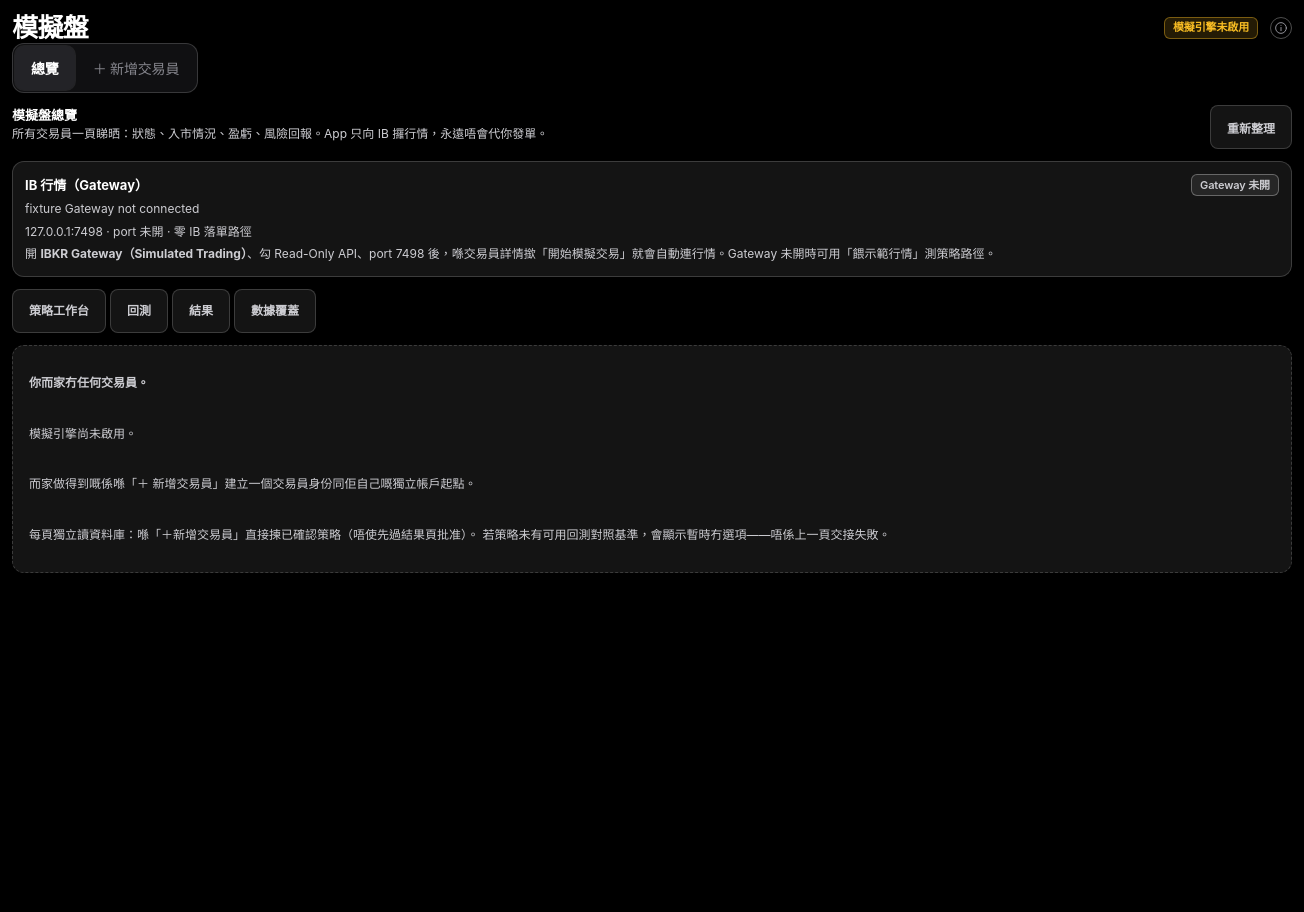
Test: P6 Stage A — contract candidates (approach C) › fails closed on an empty contract list and keeps create disabled
Click the tab "＋ 新增交易員" at (136, 68), box x1=77 y1=46 x2=195 y2=90
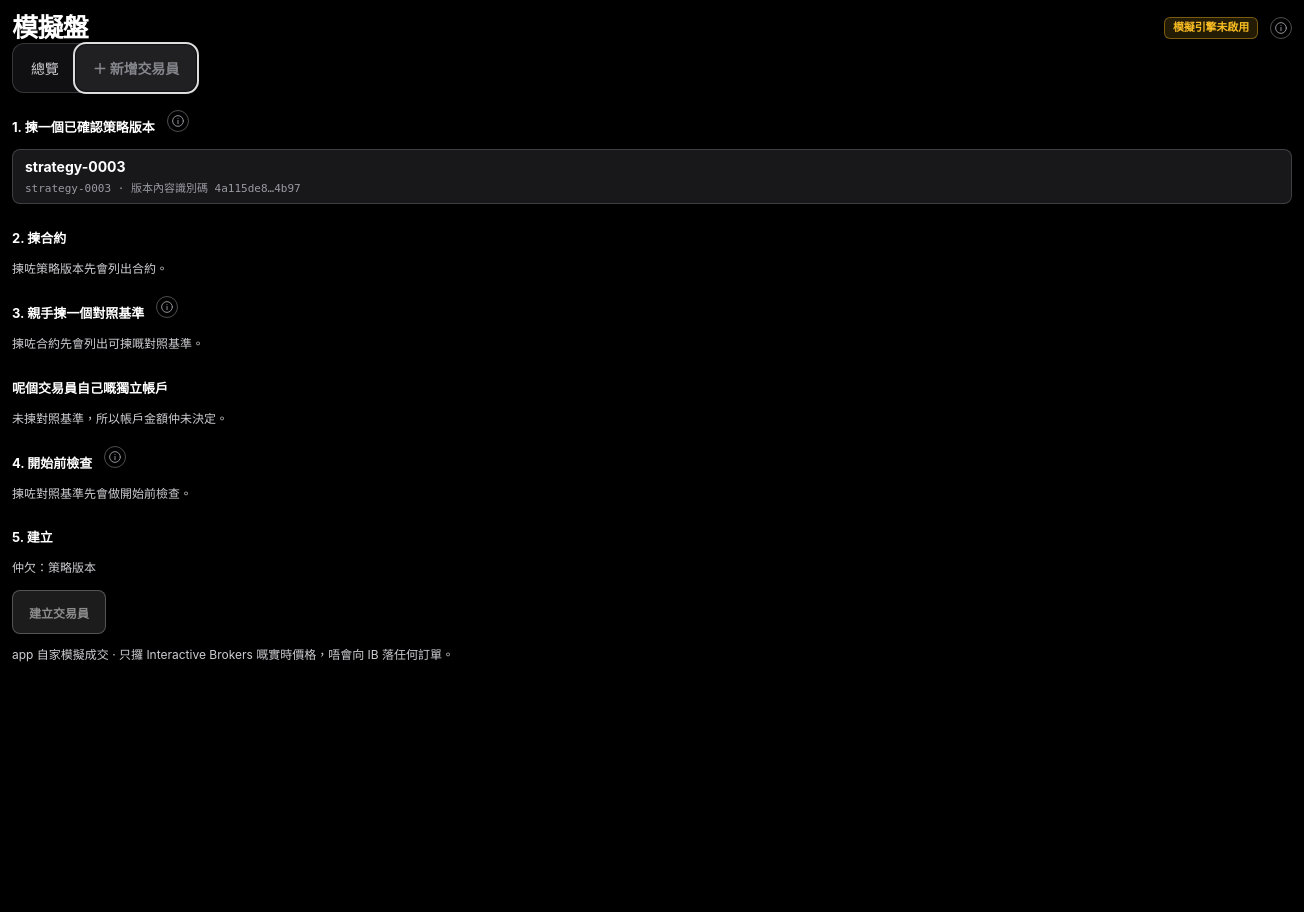
Click the button "strategy-0003 strategy-0003 · 版本內容識別碼 4a115de8…4b97" at (75, 167), box x1=12 y1=149 x2=1292 y2=204
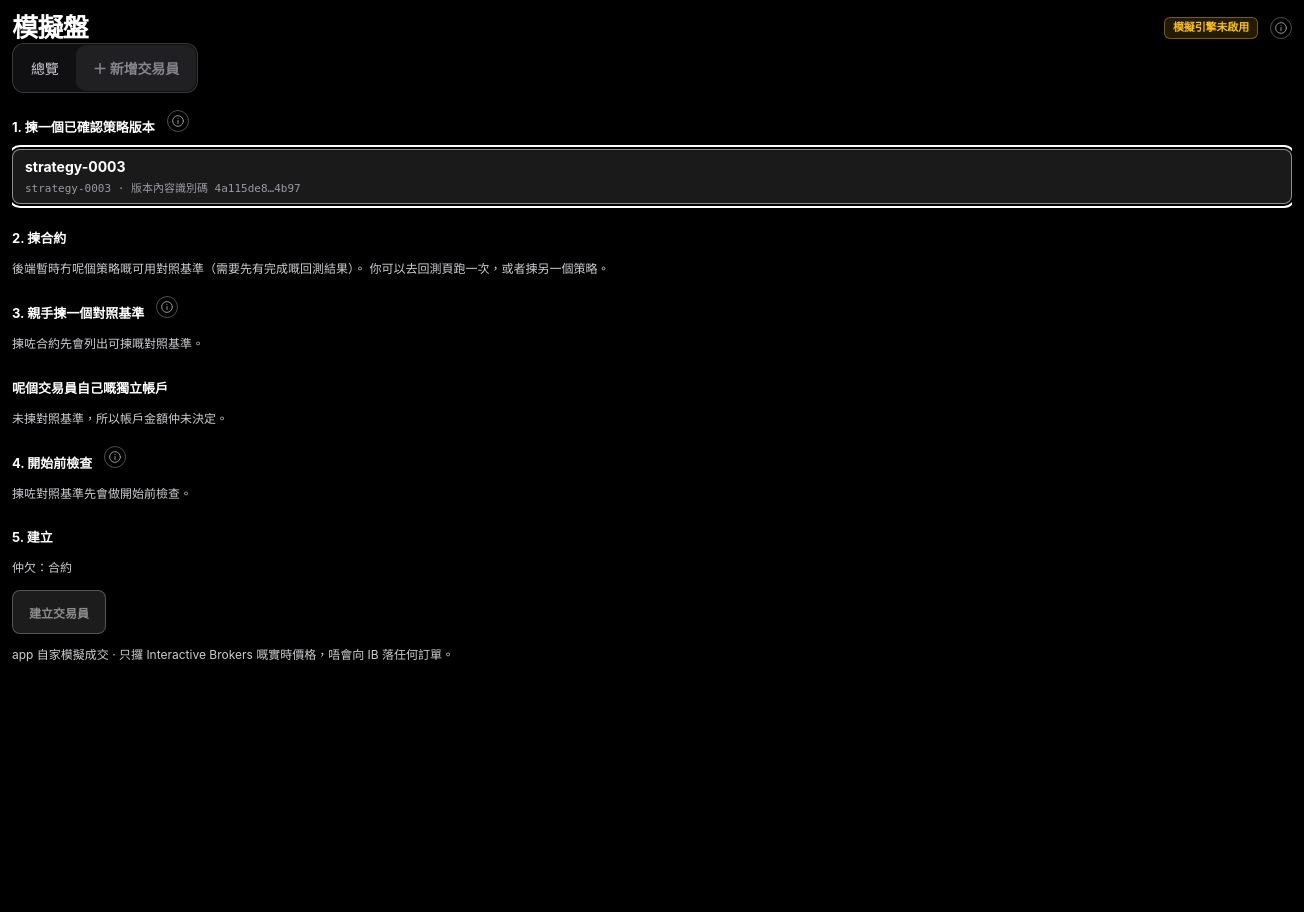
Expected: the button "建立交易員" is disabled, x1=12 y1=590 x2=106 y2=634
Expected: the text "後端暫時冇呢個策略嘅可用對照基準（需要先有完成嘅回測結果）。 你可以去回測頁跑一次，或者揀另一個策略。" is shown, x1=12 y1=262 x2=609 y2=276
